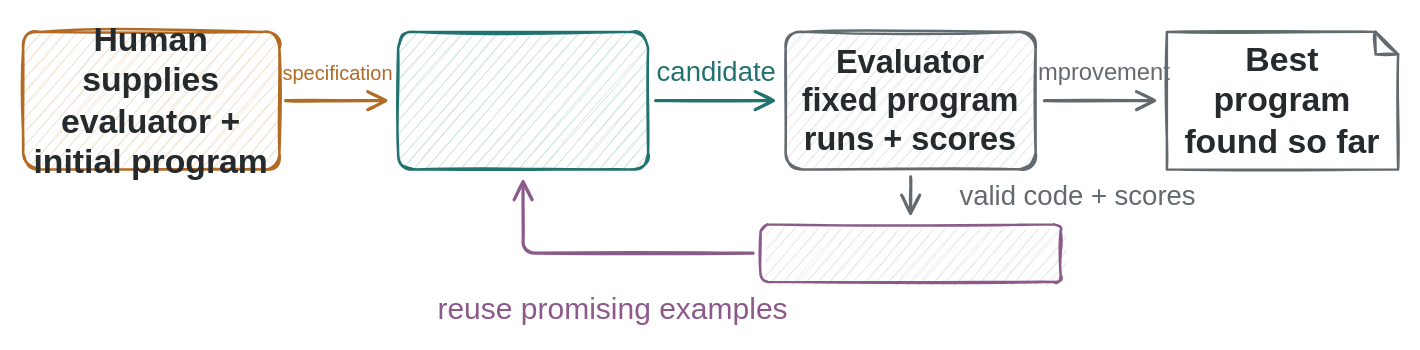
The diagram is 1420 pixels wide and 350 high, and some of its shapes have lost their labels. Here are the shapes that lost their labels. From the top down, the centre of each, then its label:
point 522,100: LLM proposes code changes
point 910,252: Program database
